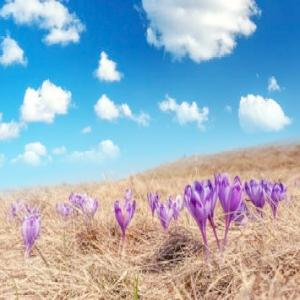Saffron: (184, 180, 214, 240), (219, 176, 242, 235), (244, 177, 270, 213), (265, 180, 286, 220), (116, 201, 136, 236), (21, 217, 40, 253)
